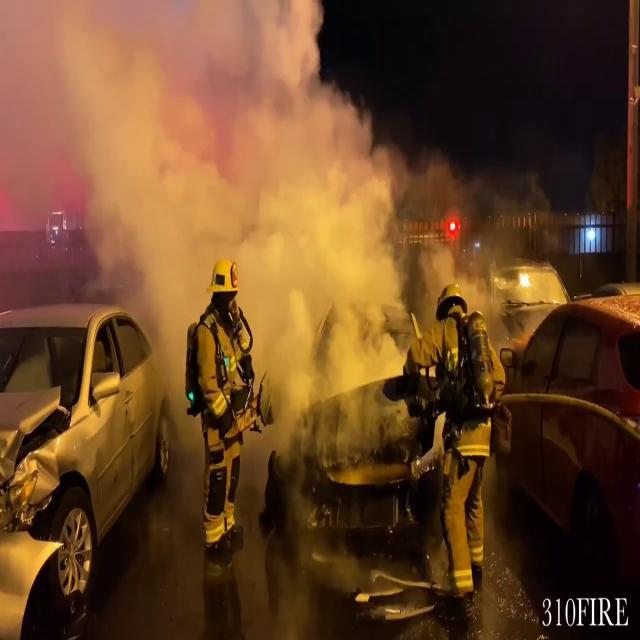Smoke: (1, 0, 512, 403)
